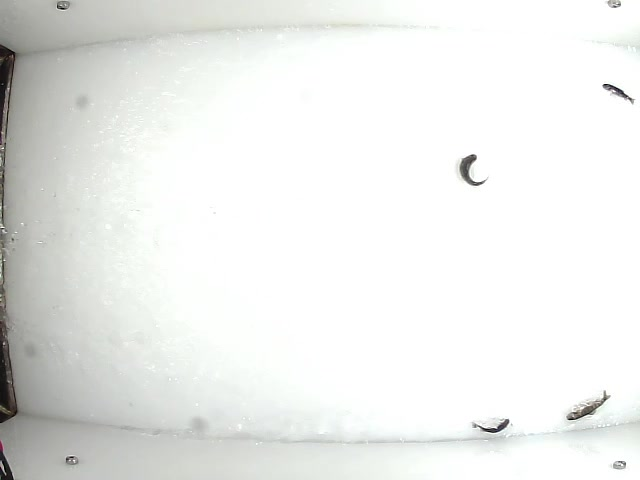fish: (564, 387, 611, 423), (456, 153, 490, 187), (600, 82, 637, 104), (470, 417, 512, 435)
